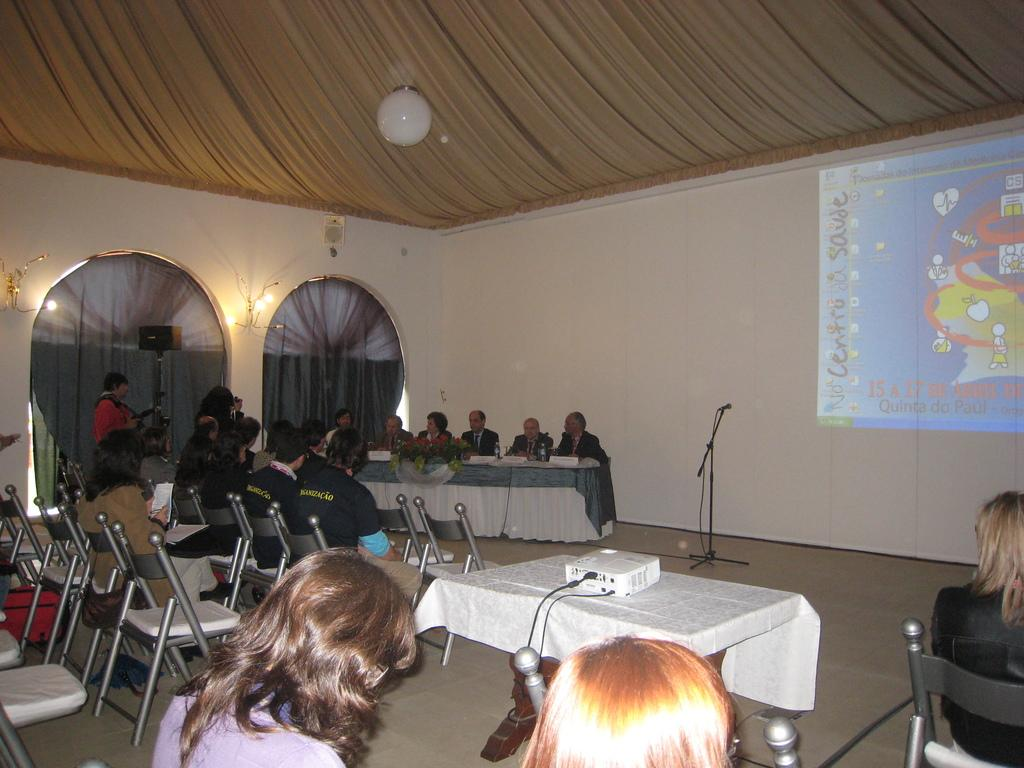Chair: (93, 512, 242, 746), (900, 617, 1023, 767), (402, 495, 485, 665), (224, 491, 289, 609)
